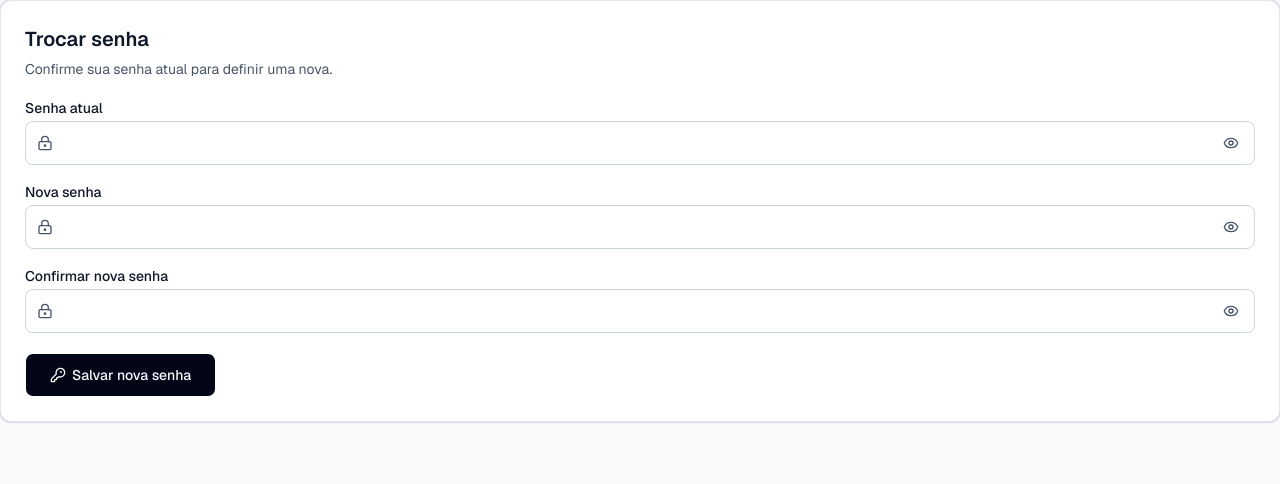
ChangePasswordForm › should show a validation error and not submit when the confirmation does not match
Type "current-password" into the password field labelled "Senha atual".
click(640, 143); type("current-password")  # box [25,121,1255,165]
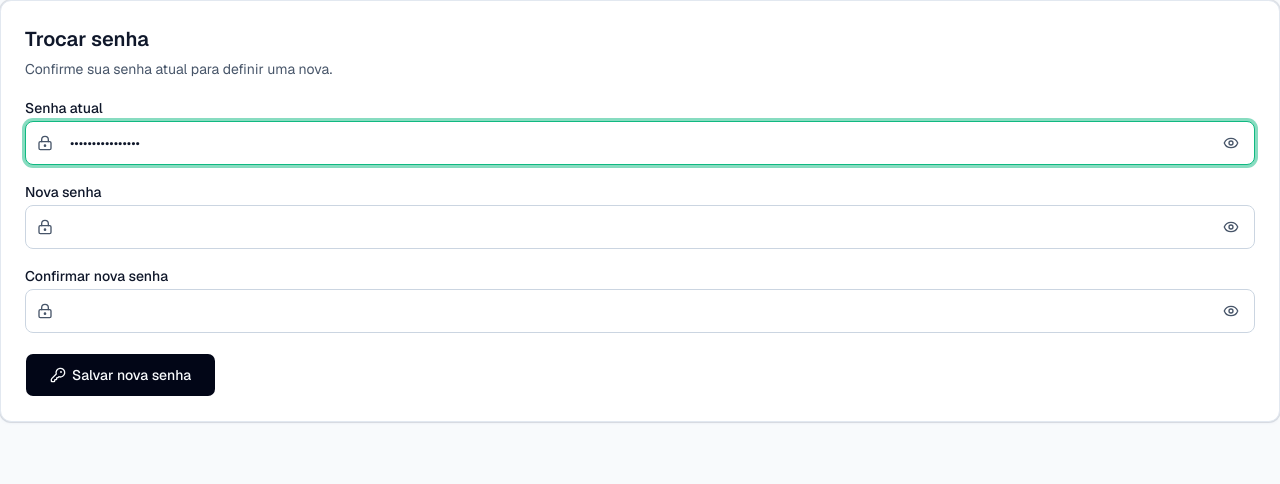
Type "new-password-123" into the password field labelled "Nova senha".
click(640, 227); type("new-password-123")  # box [25,205,1255,249]
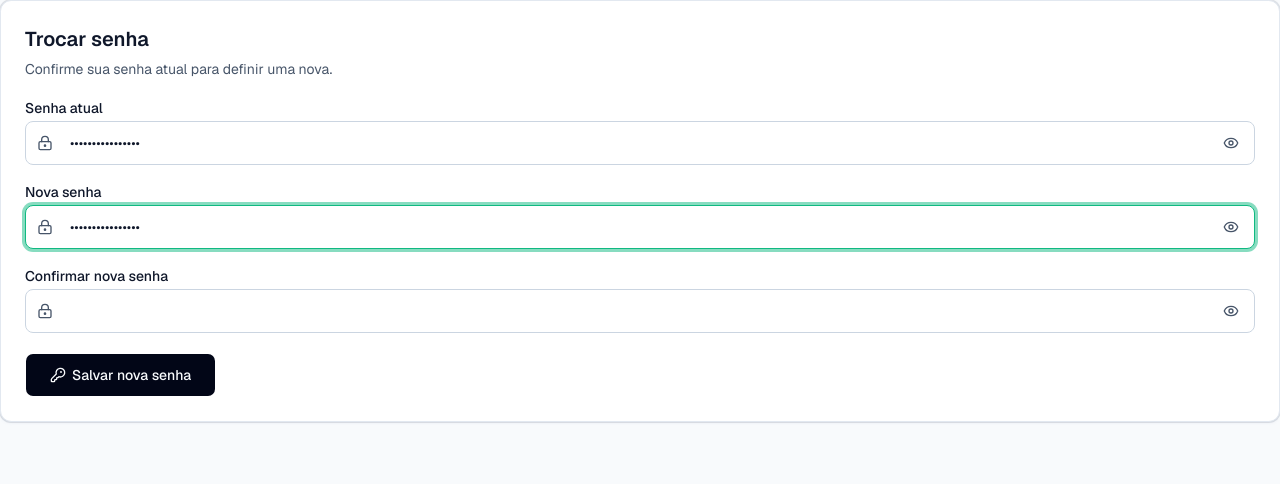
Type "something-else" into the password field labelled "Confirmar nova senha".
click(640, 311); type("something-else")  # box [25,289,1255,333]
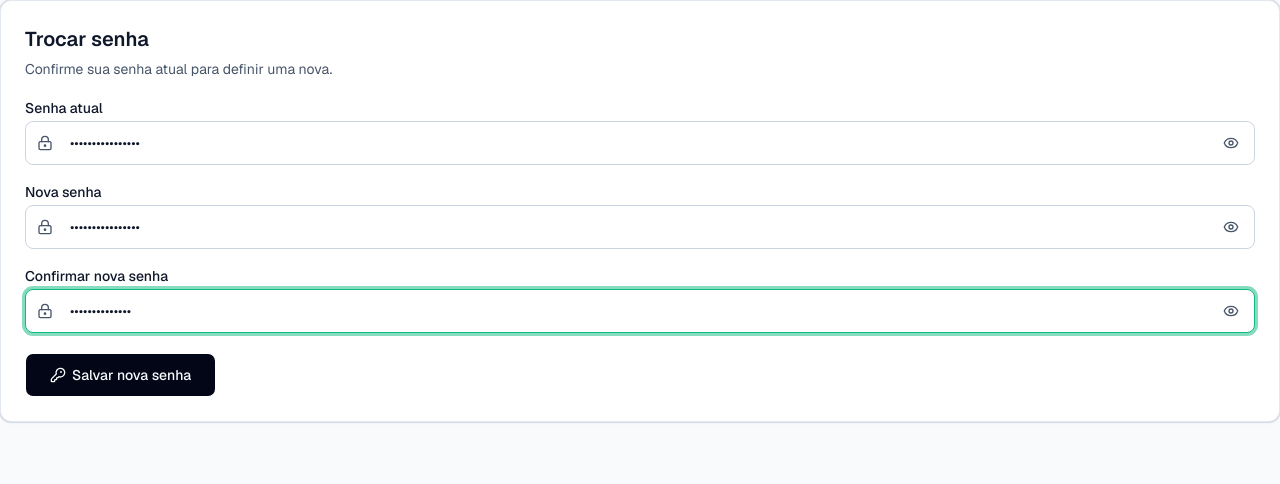
Click the button "Salvar nova senha".
click(121, 375)  # box [25,353,216,397]
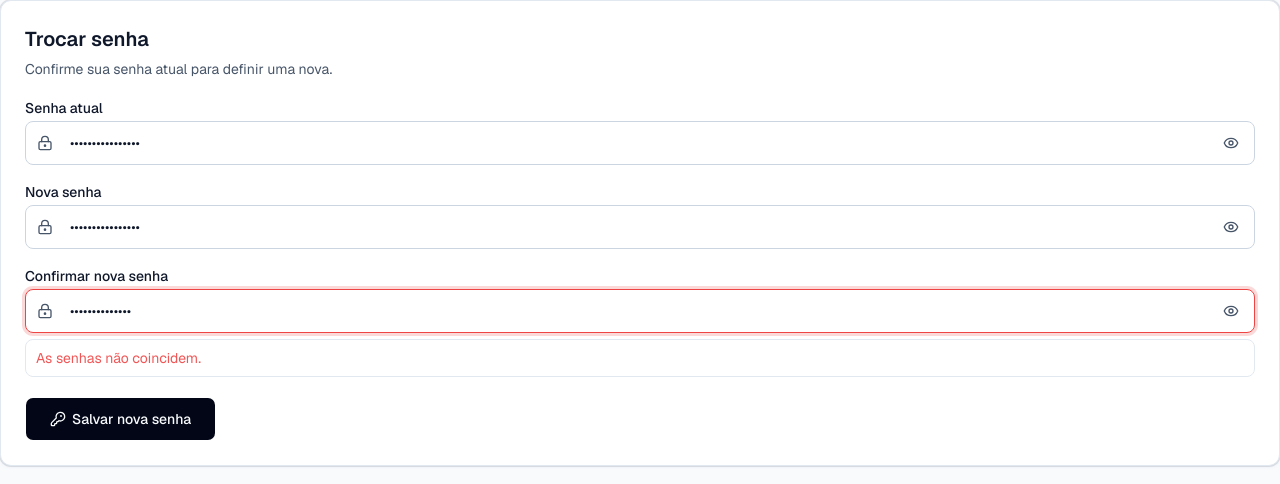
expect the text "As senhas não coincidem." is shown: met, box [36,349,201,367]
